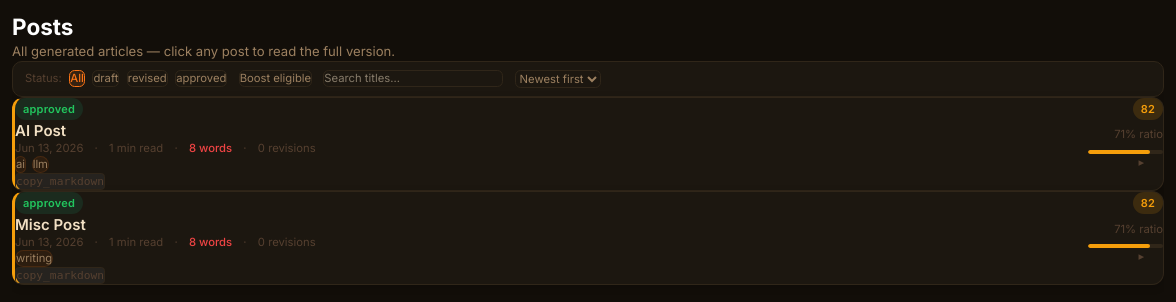
PostsPage › Tag filter › hides posts that do not have the selected tag
Click the button with test id "tag-ai" at (20, 164), box x1=15 y1=156 x2=26 y2=173
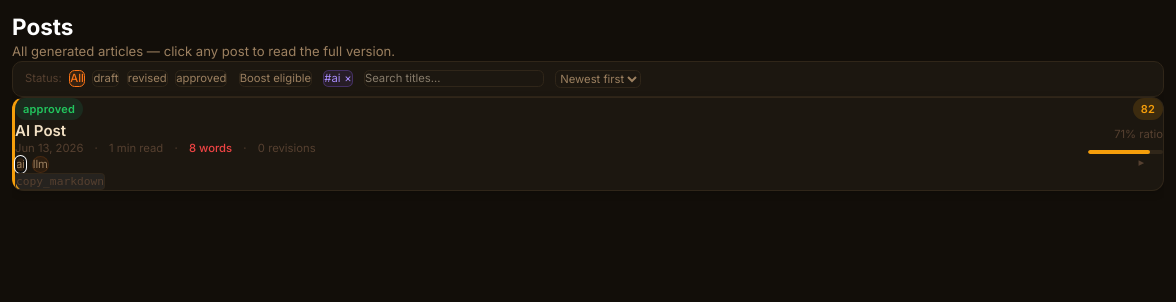
Expected: the link "Misc Post" is gone
